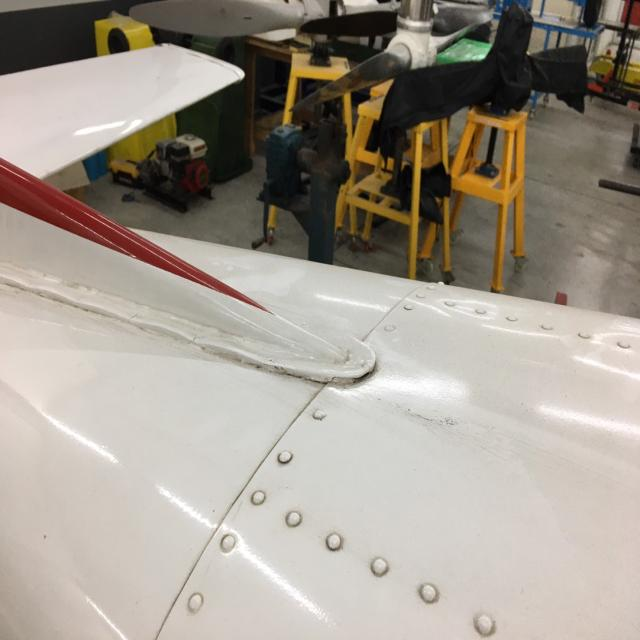Rupture: (213, 331, 391, 399), (405, 399, 492, 459), (116, 308, 202, 358)
